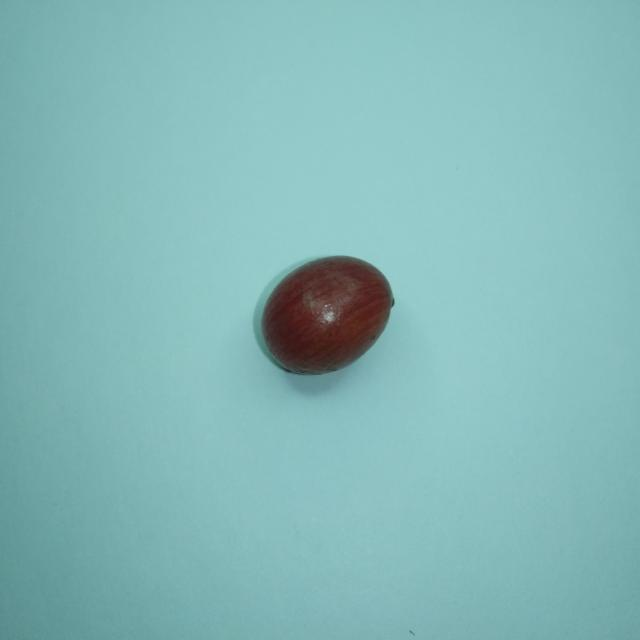Sano: (256, 256, 393, 374)
